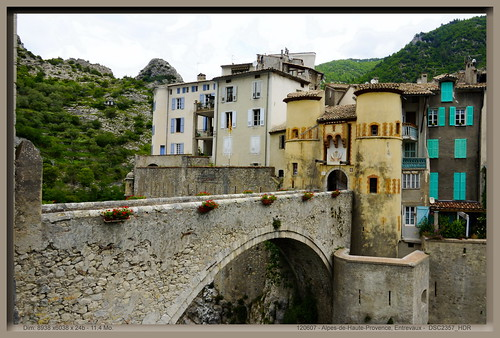bridge: (10, 170, 368, 319)
building: (285, 90, 401, 259), (149, 54, 305, 171), (409, 73, 487, 237)
sky: (26, 14, 411, 65)
